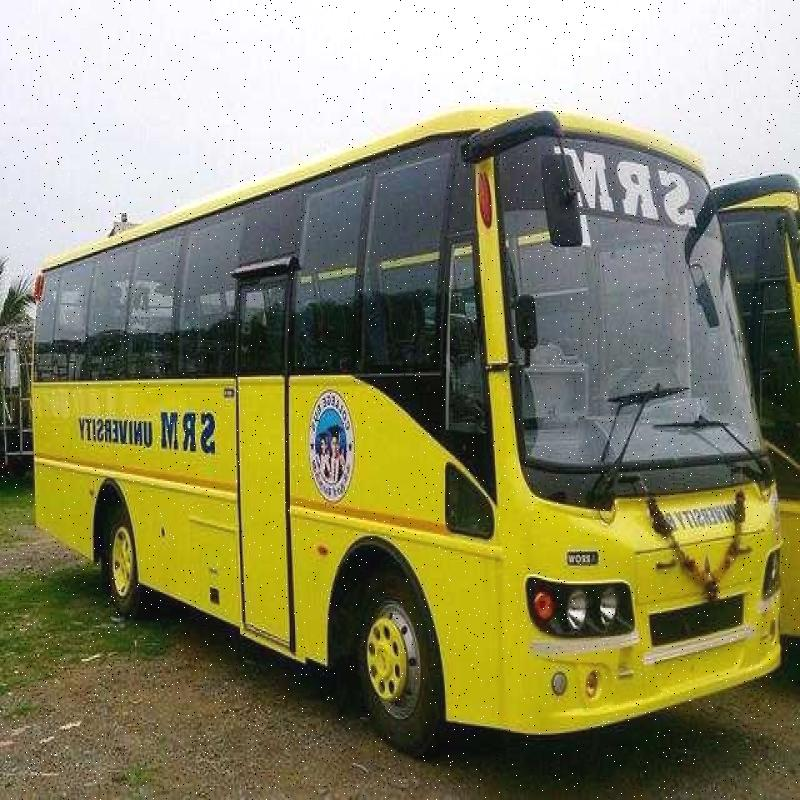bus: (3, 113, 781, 729)
